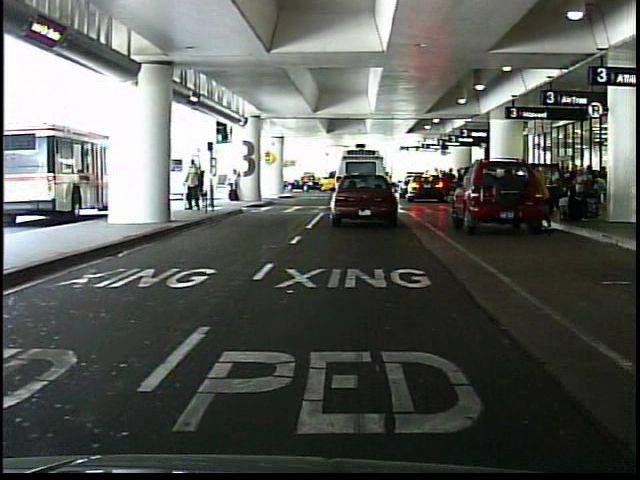person: (527, 159, 555, 227), (182, 157, 201, 214), (226, 167, 245, 205), (196, 163, 209, 211)
